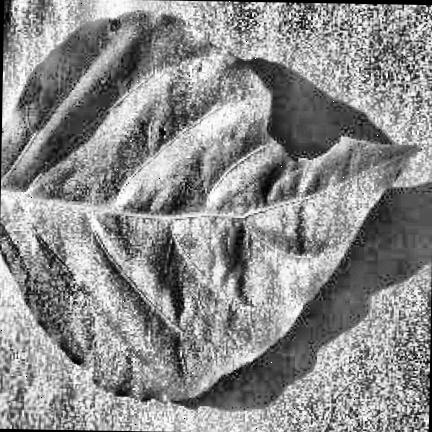leaf: (0, 12, 415, 399)
